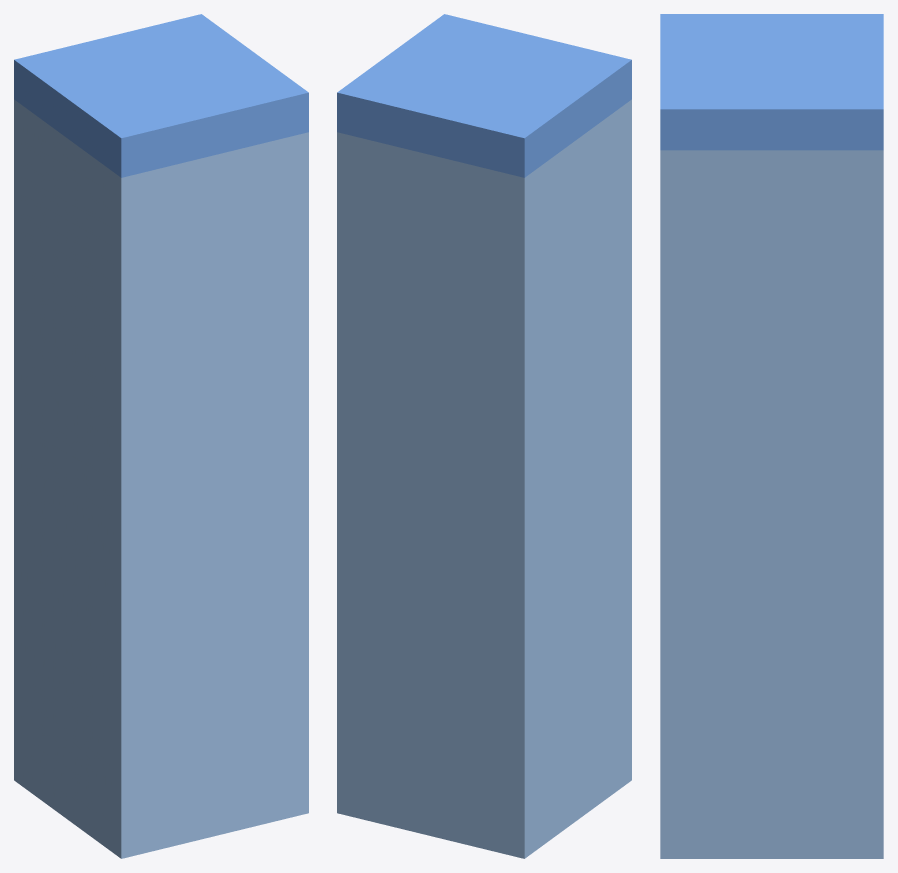
The model's file is procedural_building_0.glb.
The picture shows the model from 3 angles, left to right: view 1: azimuth 30°, elevation 25°; view 2: azimuth 150°, elevation 25°; view 3: azimuth 270°, elevation 25°; orthographic projection. The views are drawn at different scales.
Visible parts, largest first — view 1: mesh_CityEngineMaterial_1, mesh_CityEngineMaterial; view 2: mesh_CityEngineMaterial_1, mesh_CityEngineMaterial; view 3: mesh_CityEngineMaterial_1, mesh_CityEngineMaterial.
Boxes of the visible parts, bbox=[...] form: mesh_CityEngineMaterial_1: bbox=[14, 99, 308, 858]; mesh_CityEngineMaterial: bbox=[14, 14, 308, 177]; mesh_CityEngineMaterial_1: bbox=[337, 99, 631, 858]; mesh_CityEngineMaterial: bbox=[337, 14, 631, 177]; mesh_CityEngineMaterial_1: bbox=[660, 150, 883, 858]; mesh_CityEngineMaterial: bbox=[660, 14, 883, 150].
Size of the model in its own units: 41.61 by 153 by 41.26.
